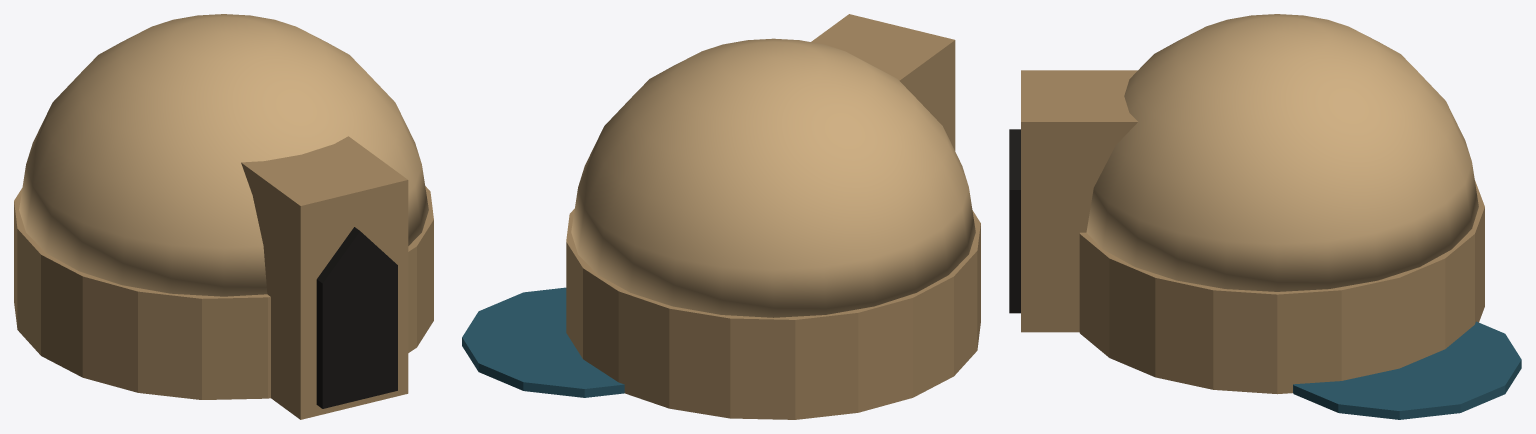
The model's file is well.glb.
3 renders of one model, left to right at view 1: azimuth 30°, elevation 25°; view 2: azimuth 150°, elevation 25°; view 3: azimuth 270°, elevation 25°, orthographic.
Parts seen in each view (by area): view 1: Well; view 2: Well; view 3: Well.
Part boxes in pixels (left/top/right/bottom): Well: left=14, top=14, right=433, bottom=419; Well: left=462, top=14, right=980, bottom=419; Well: left=1009, top=14, right=1521, bottom=419.
Size of the model in its own units: 3.9 by 2.47 by 4.19.
